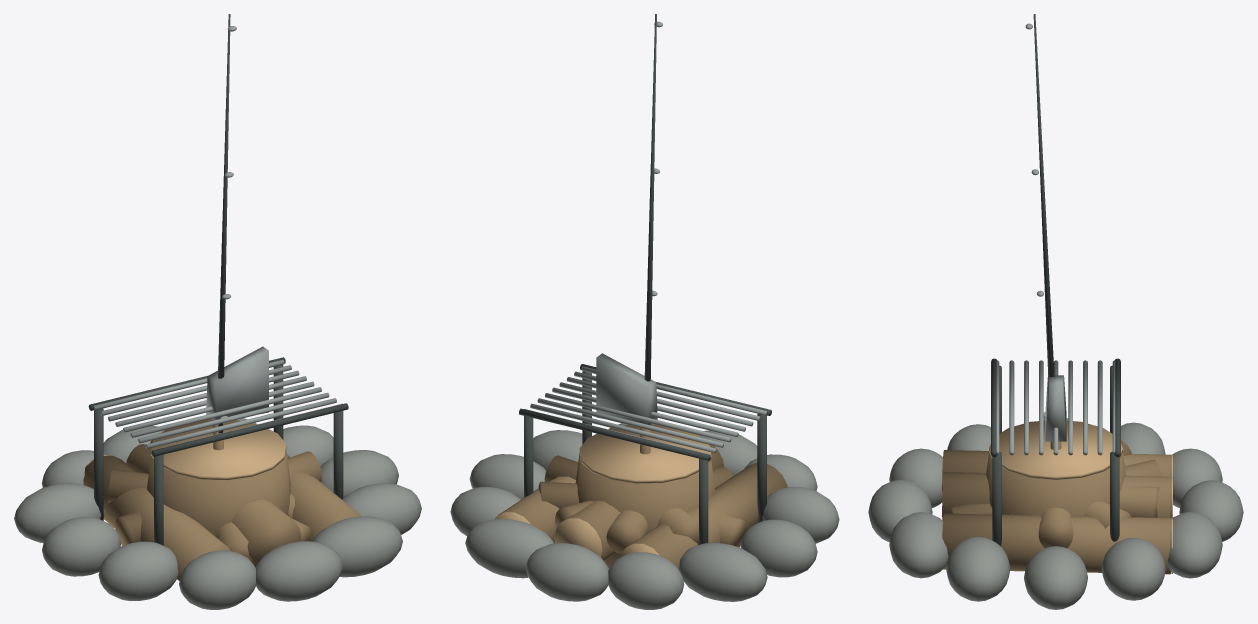
The model's file is camp.glb.
The picture shows the model from 3 angles, left to right: view 1: azimuth 30°, elevation 25°; view 2: azimuth 150°, elevation 25°; view 3: azimuth 270°, elevation 25°; orthographic projection. The views are drawn at different scales.
Parts seen in each view (by area): view 1: Fire stone, Log, Grill bar, Bark stump, Rack leg, Cut face, Burning log, Forged axe blade, Flexible rod; view 2: Fire stone, Log, Grill bar, Burning log, Rack leg, Cut face, Bark stump, Forged axe blade, Flexible rod, Cut end; view 3: Fire stone, Log, Cut face, Bark stump, Grill bar, Burning log, Rack leg, Flexible rod, Forged axe blade.
Part boxes in pixels (<box>): Fire stone: <box>14,418,421,609</box>; Log: <box>83,440,361,580</box>; Grill bar: <box>94,360,342,450</box>; Bark stump: <box>147,449,290,566</box>; Rack leg: <box>88,357,348,545</box>; Cut face: <box>151,419,286,480</box>; Burning log: <box>107,444,321,564</box>; Forged axe blade: <box>206,346,268,420</box>; Flexible rod: <box>218,14,230,433</box>; Fire stone: <box>450,423,839,609</box>; Log: <box>498,445,787,569</box>; Grill bar: <box>524,366,766,454</box>; Burning log: <box>538,455,745,553</box>; Rack leg: <box>519,364,771,544</box>; Cut face: <box>579,424,711,483</box>; Bark stump: <box>575,453,715,568</box>; Forged axe blade: <box>596,353,657,425</box>; Flexible rod: <box>644,14,656,381</box>; Cut end: <box>495,512,659,557</box>; Fire stone: <box>868,418,1243,609</box>; Log: <box>942,450,1171,574</box>; Cut face: <box>989,420,1122,479</box>; Bark stump: <box>986,452,1125,516</box>; Grill bar: <box>996,360,1115,455</box>; Burning log: <box>950,440,1161,548</box>; Rack leg: <box>991,358,1120,546</box>; Flexible rod: <box>1033,14,1054,376</box>; Forged axe blade: <box>1045,375,1066,441</box>.
Size of the model in its own units: 1.48 by 2.29 by 1.4.
